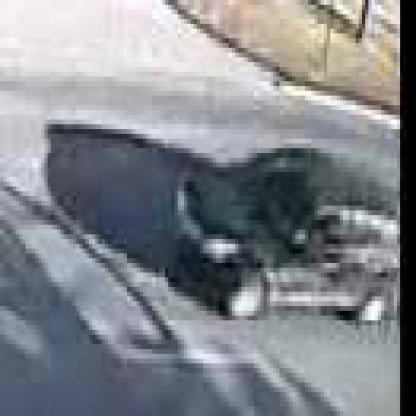car: (169, 140, 401, 326)
